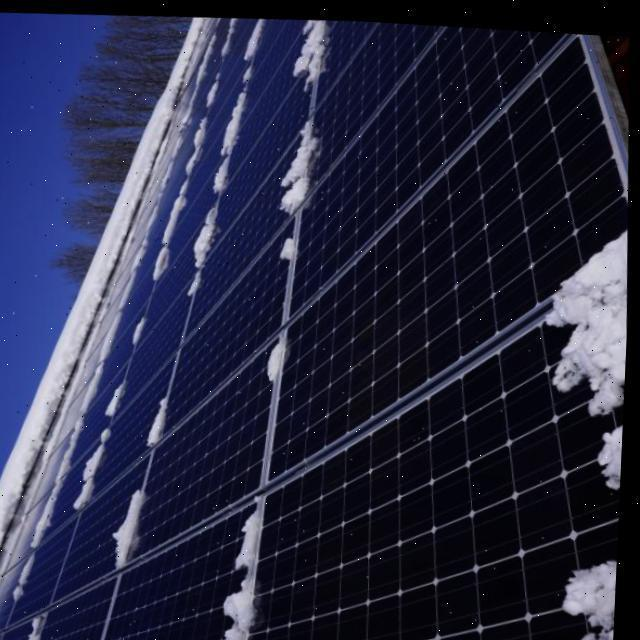Snow: (152, 14, 240, 278), (549, 212, 629, 410), (224, 503, 268, 640), (568, 538, 622, 640), (276, 110, 322, 210), (103, 485, 159, 563), (285, 15, 339, 88), (71, 430, 119, 509), (186, 192, 231, 266), (220, 78, 254, 149), (600, 404, 627, 482), (98, 376, 139, 420), (147, 390, 169, 443), (209, 147, 234, 190), (28, 608, 55, 640), (134, 308, 153, 349), (267, 337, 284, 377), (280, 233, 301, 258)
